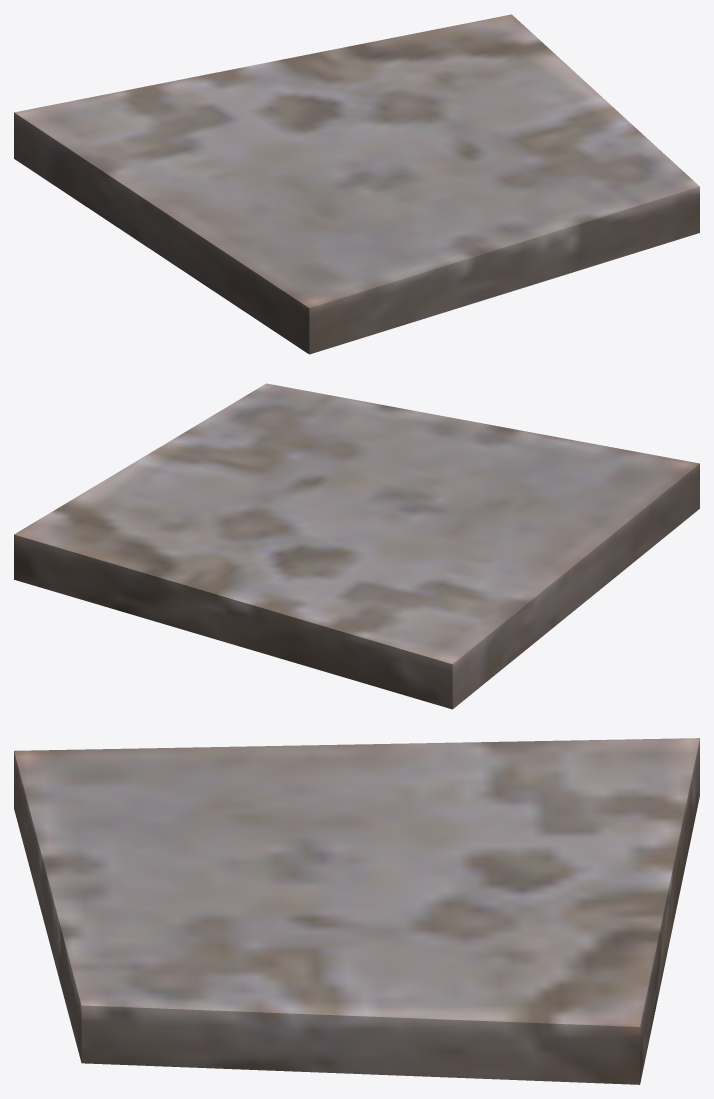
Rendered from FB_CunLuo_shiotu03.FBX.
3 renders of one model, top to bottom at view 1: azimuth 30°, elevation 25°; view 2: azimuth 150°, elevation 25°; view 3: azimuth 270°, elevation 25°, orthographic. The views are drawn at different scales.
Parts seen in each view (by area): view 1: Object74; view 2: Object74; view 3: Object74.
Boxes of the visible parts, box(x1,y1,x2,y2) form: Object74: box(14, 14, 699, 354); Object74: box(14, 383, 699, 709); Object74: box(14, 738, 699, 1084).
Size of the model in its own units: 1.87 by 0.1744 by 1.87.
